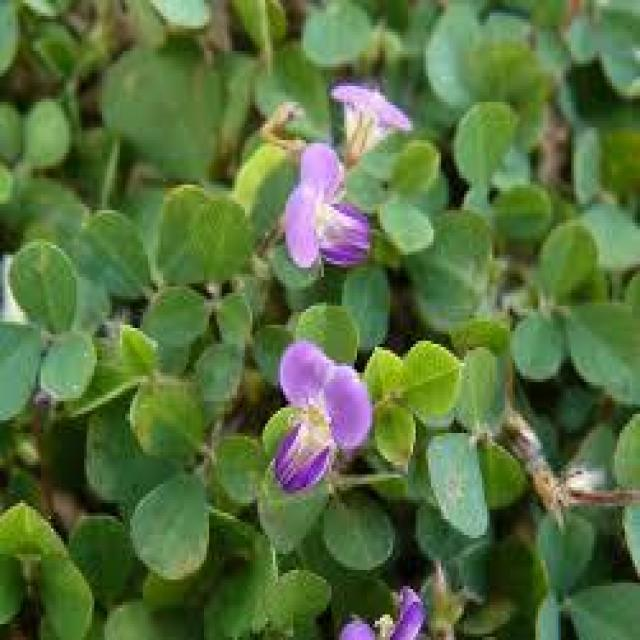organic waste: (262, 325, 382, 487), (264, 137, 379, 267), (323, 70, 404, 153)
